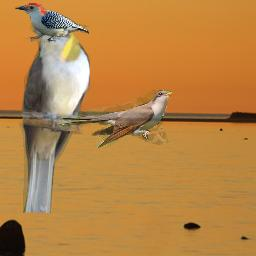Cuckoo: (19, 18, 90, 213), (59, 90, 172, 148)
Woodpecker: (15, 3, 89, 43)
